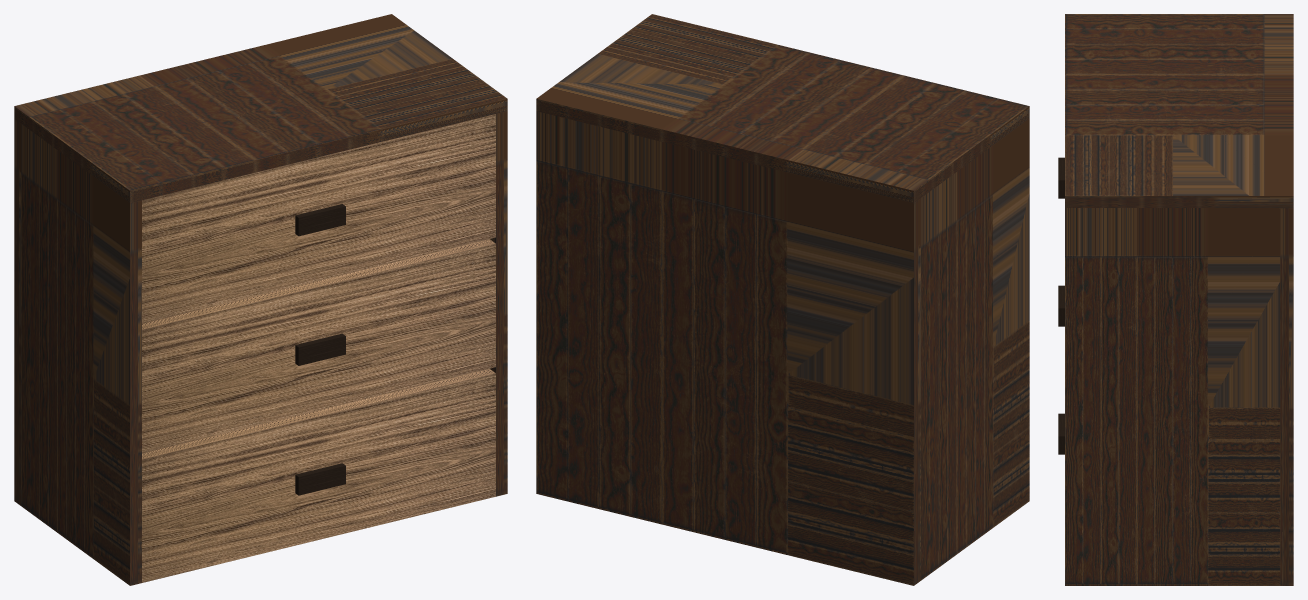
File: chiffonier.fbx
The picture shows the model from 3 angles, left to right: view 1: azimuth 30°, elevation 25°; view 2: azimuth 150°, elevation 25°; view 3: azimuth 270°, elevation 25°; orthographic projection.
Visible parts, largest first — view 1: chiffonier, second floor, first floor, third floor; view 2: chiffonier; view 3: chiffonier.
Part boxes in pixels (x1,y1,x2,y2): chiffonier: (14,14,507,585); second floor: (142,239,495,453); first floor: (142,368,495,582); third floor: (142,114,495,323); chiffonier: (536,14,1029,585); chiffonier: (1065,14,1293,585).
Size of the model in its own units: 64 by 64 by 35.
